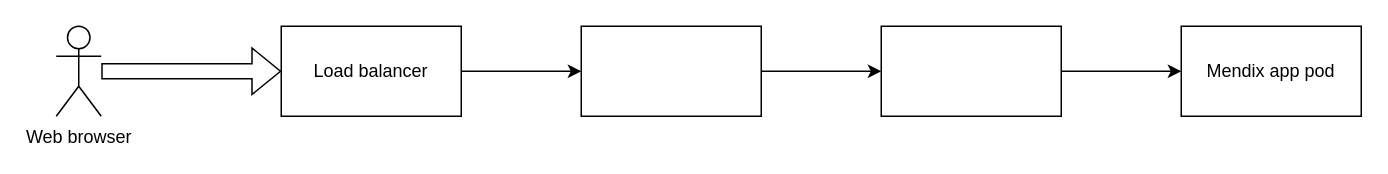
Some shapes in this 1388 by 174 pixel diagram are drawn without their labels. The centre of each missing label's shape, as x and y in pixels:
"Ingress controller" goes at (670,70).
"Kubernetes Service" goes at (970,70).
